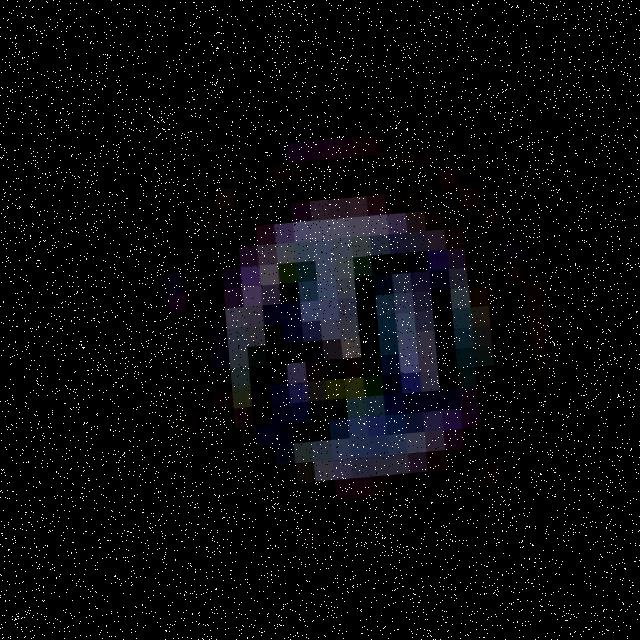Ograniczenie predkosci do 60: (107, 104, 602, 628)
